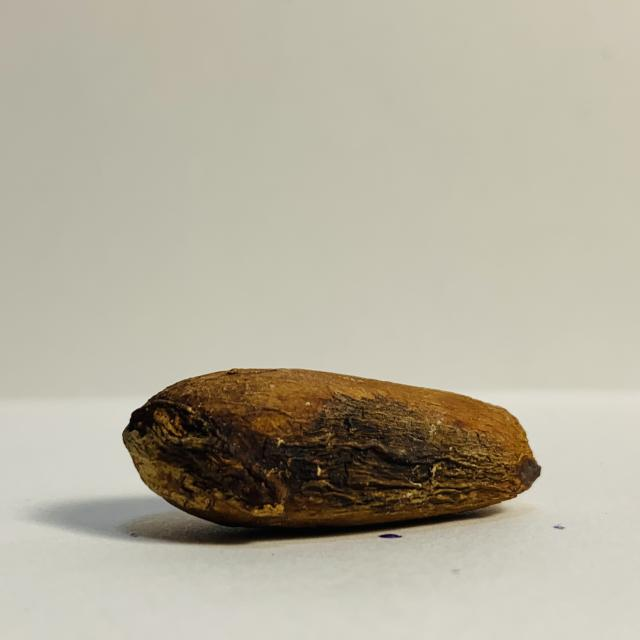Fine_cocoabeans: (42, 342, 622, 578)
